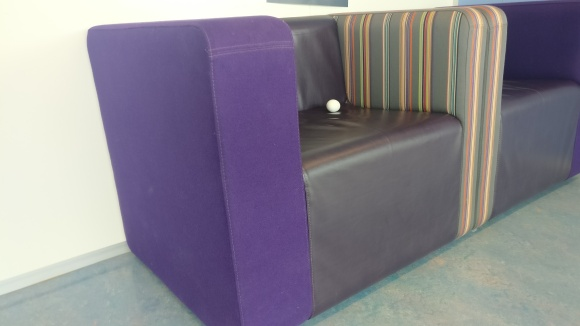egg: (326, 98, 341, 112)
